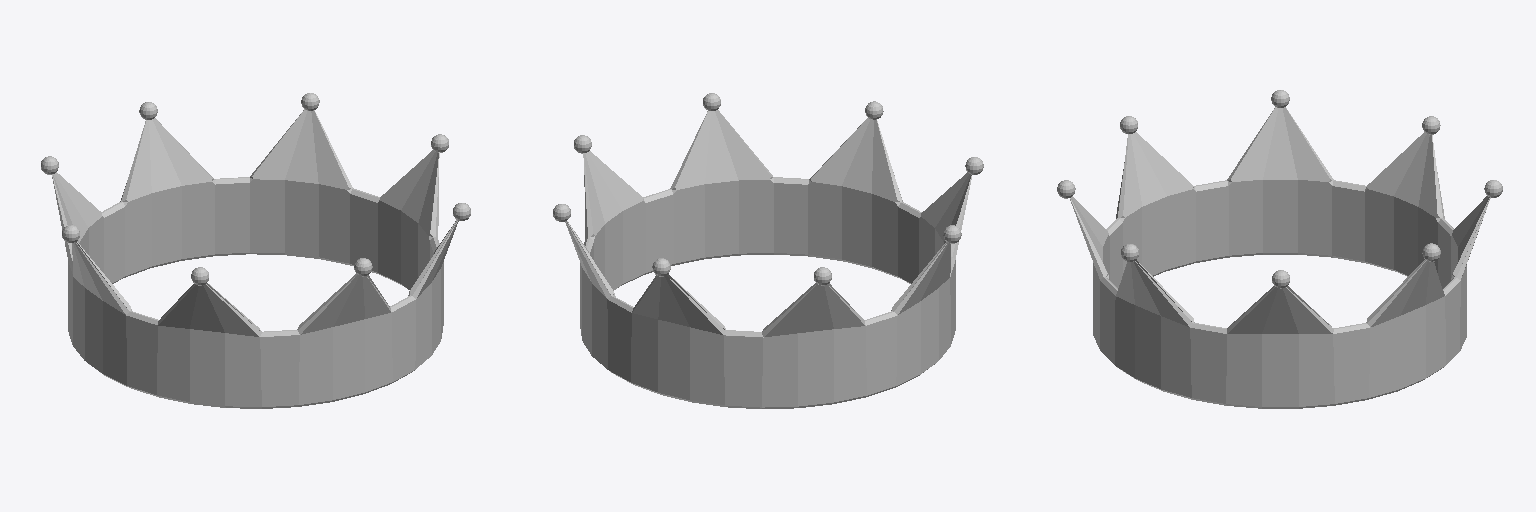
File: crown.obj
3 renders of one model, left to right at view 1: azimuth 30°, elevation 25°; view 2: azimuth 150°, elevation 25°; view 3: azimuth 270°, elevation 25°, orthographic.
Visible parts, largest first — view 1: TextureAtlas2_mergedObject; view 2: TextureAtlas2_mergedObject; view 3: TextureAtlas2_mergedObject.
Part boxes in pixels (bbox=[...]): TextureAtlas2_mergedObject: bbox=[41, 93, 470, 408]; TextureAtlas2_mergedObject: bbox=[553, 93, 983, 408]; TextureAtlas2_mergedObject: bbox=[1057, 90, 1502, 408].
Bounding box in the file's own units: 2.37 × 0.8856 × 2.37.